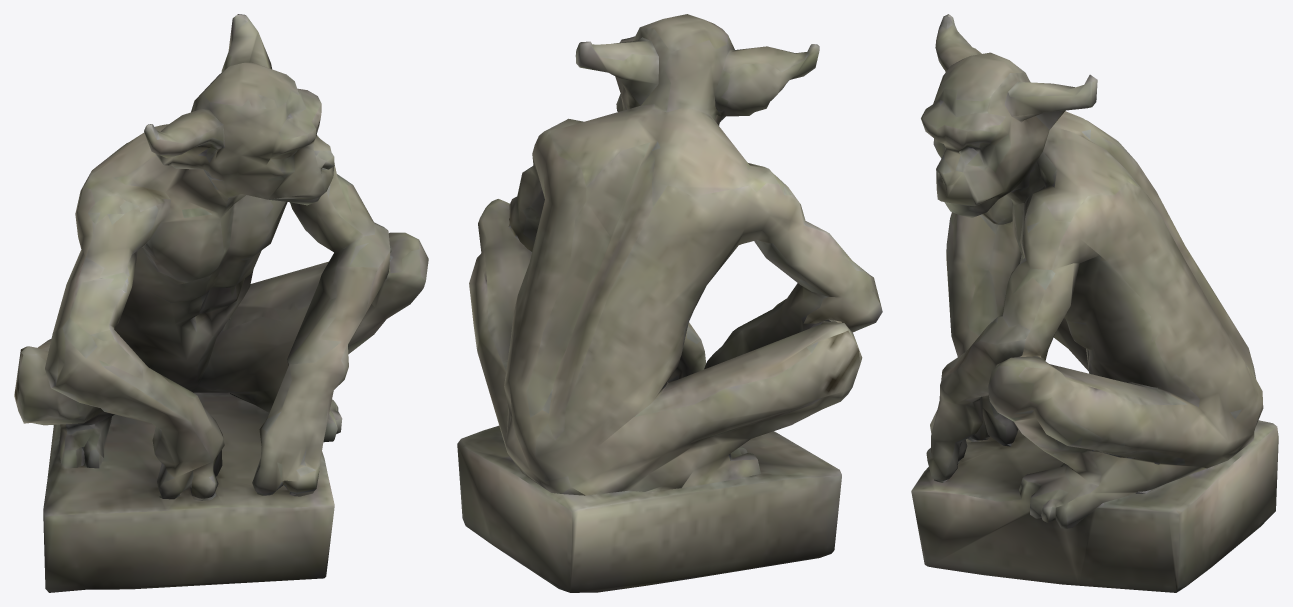
File: rustic-limestone-gargoyle-v001.glb
The picture shows the model from 3 angles, left to right: view 1: azimuth 30°, elevation 25°; view 2: azimuth 150°, elevation 25°; view 3: azimuth 270°, elevation 25°; orthographic projection. The views are drawn at different scales.
Visible parts, largest first — view 1: rustic-limestone-gargoyle; view 2: rustic-limestone-gargoyle; view 3: rustic-limestone-gargoyle.
Boxes of the visible parts, x1,y1,x2,y2 form: rustic-limestone-gargoyle: (14, 14, 428, 592); rustic-limestone-gargoyle: (457, 14, 882, 592); rustic-limestone-gargoyle: (911, 14, 1278, 592).
Bounding box in the file's own units: 0.9237 × 1.13 × 0.7626.
1 material, 1 textured.
